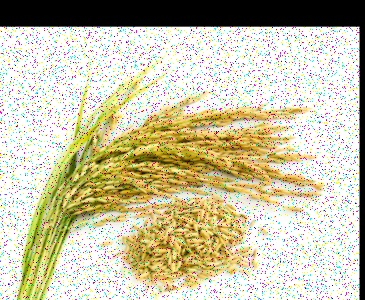rice: (51, 89, 316, 230)
